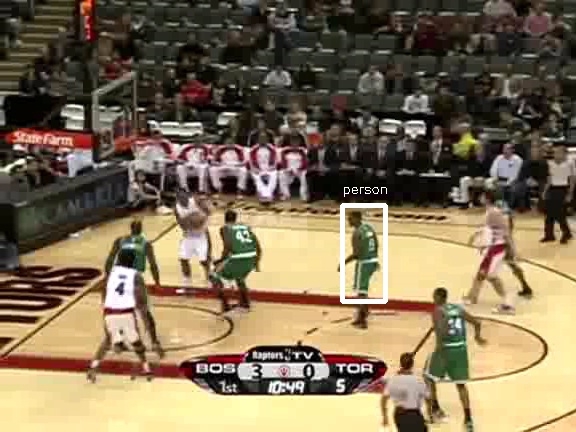person: (350, 218, 384, 299), (349, 218, 383, 299), (351, 218, 385, 299), (350, 217, 384, 298), (350, 219, 384, 300)
target_negative: (129, 107, 556, 334), (347, 200, 446, 346), (141, 182, 199, 407), (182, 326, 419, 363), (238, 336, 276, 405), (414, 426, 437, 431)
